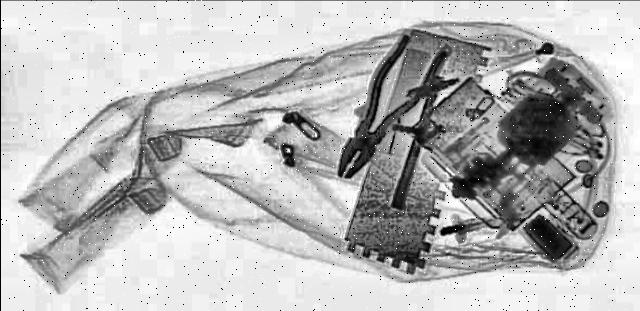Pliers: (311, 36, 459, 182)
